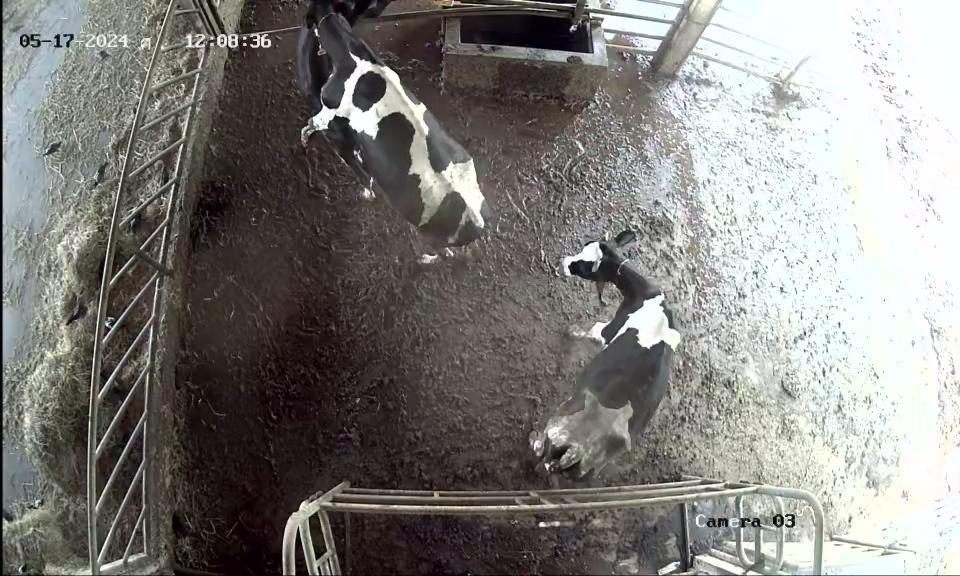ride: (299, 0, 493, 275)
stand: (514, 212, 704, 482), (284, 0, 358, 116)
